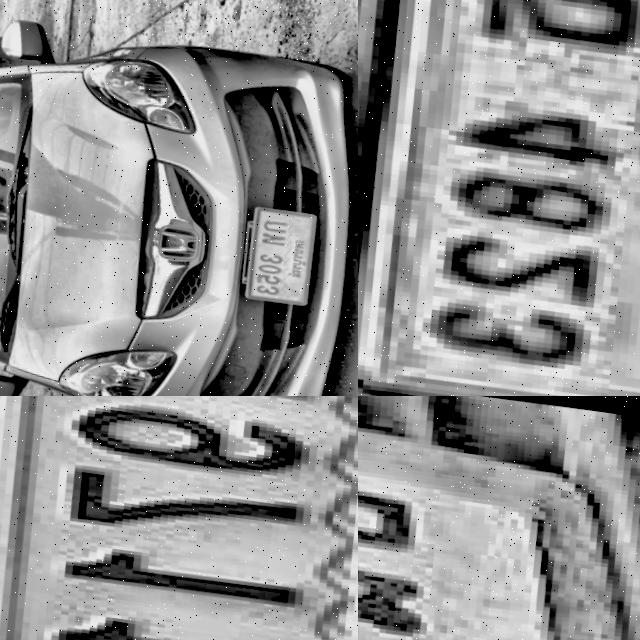license-plate: (358, 0, 640, 396), (0, 396, 358, 640), (358, 396, 640, 640), (233, 204, 324, 309)
